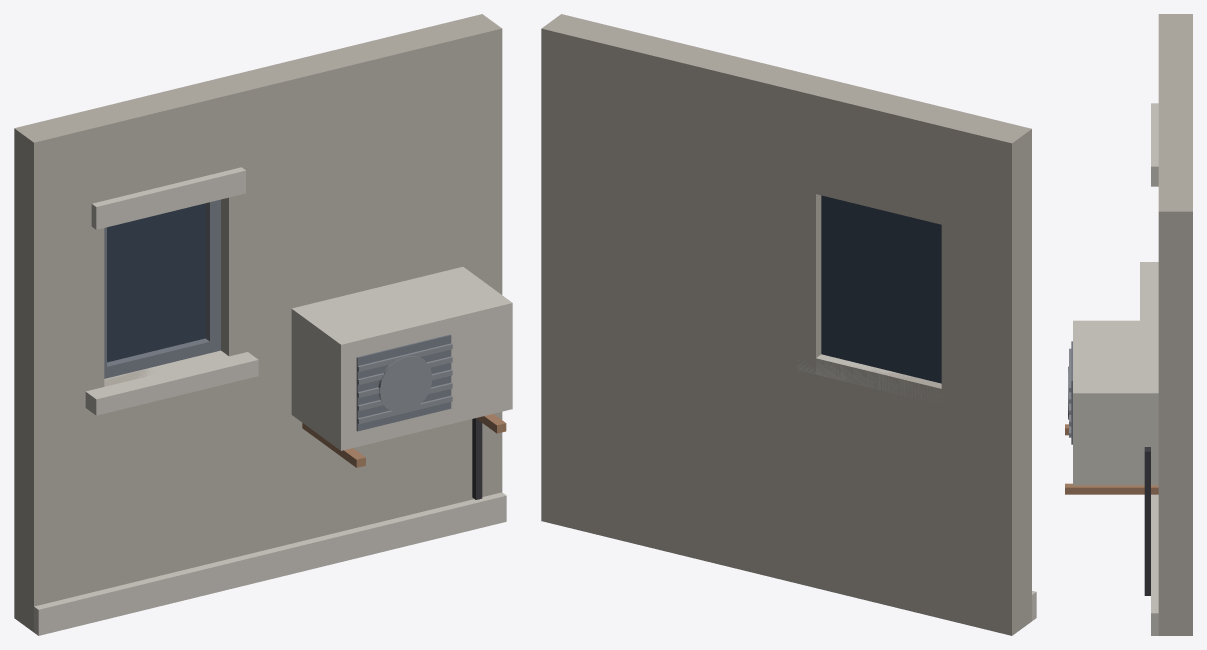
The model's file is wall_ac.glb.
3 renders of one model, left to right at view 1: azimuth 30°, elevation 25°; view 2: azimuth 150°, elevation 25°; view 3: azimuth 270°, elevation 25°, orthographic. The views are drawn at different scales.
Visible parts, largest first — view 1: wall_ac; view 2: wall_ac; view 3: wall_ac.
Part boxes in pixels (<box>): wall_ac: <box>14,14,512,635</box>; wall_ac: <box>541,14,1036,635</box>; wall_ac: <box>1065,14,1192,635</box>.
Bounding box in the file's own units: 3 × 3 × 0.82.
